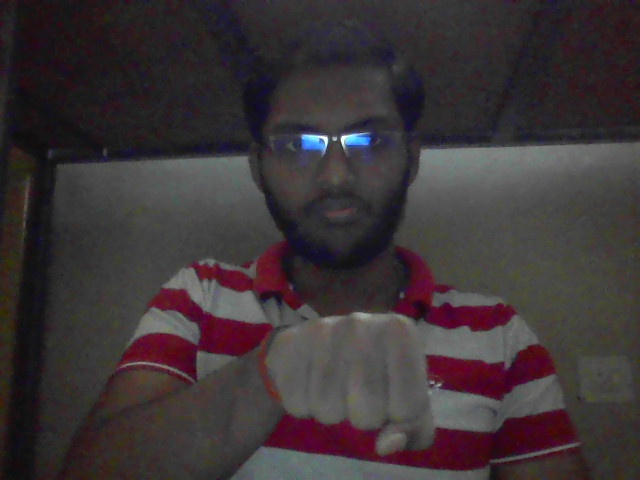Not_Hungry: (239, 309, 447, 461)
